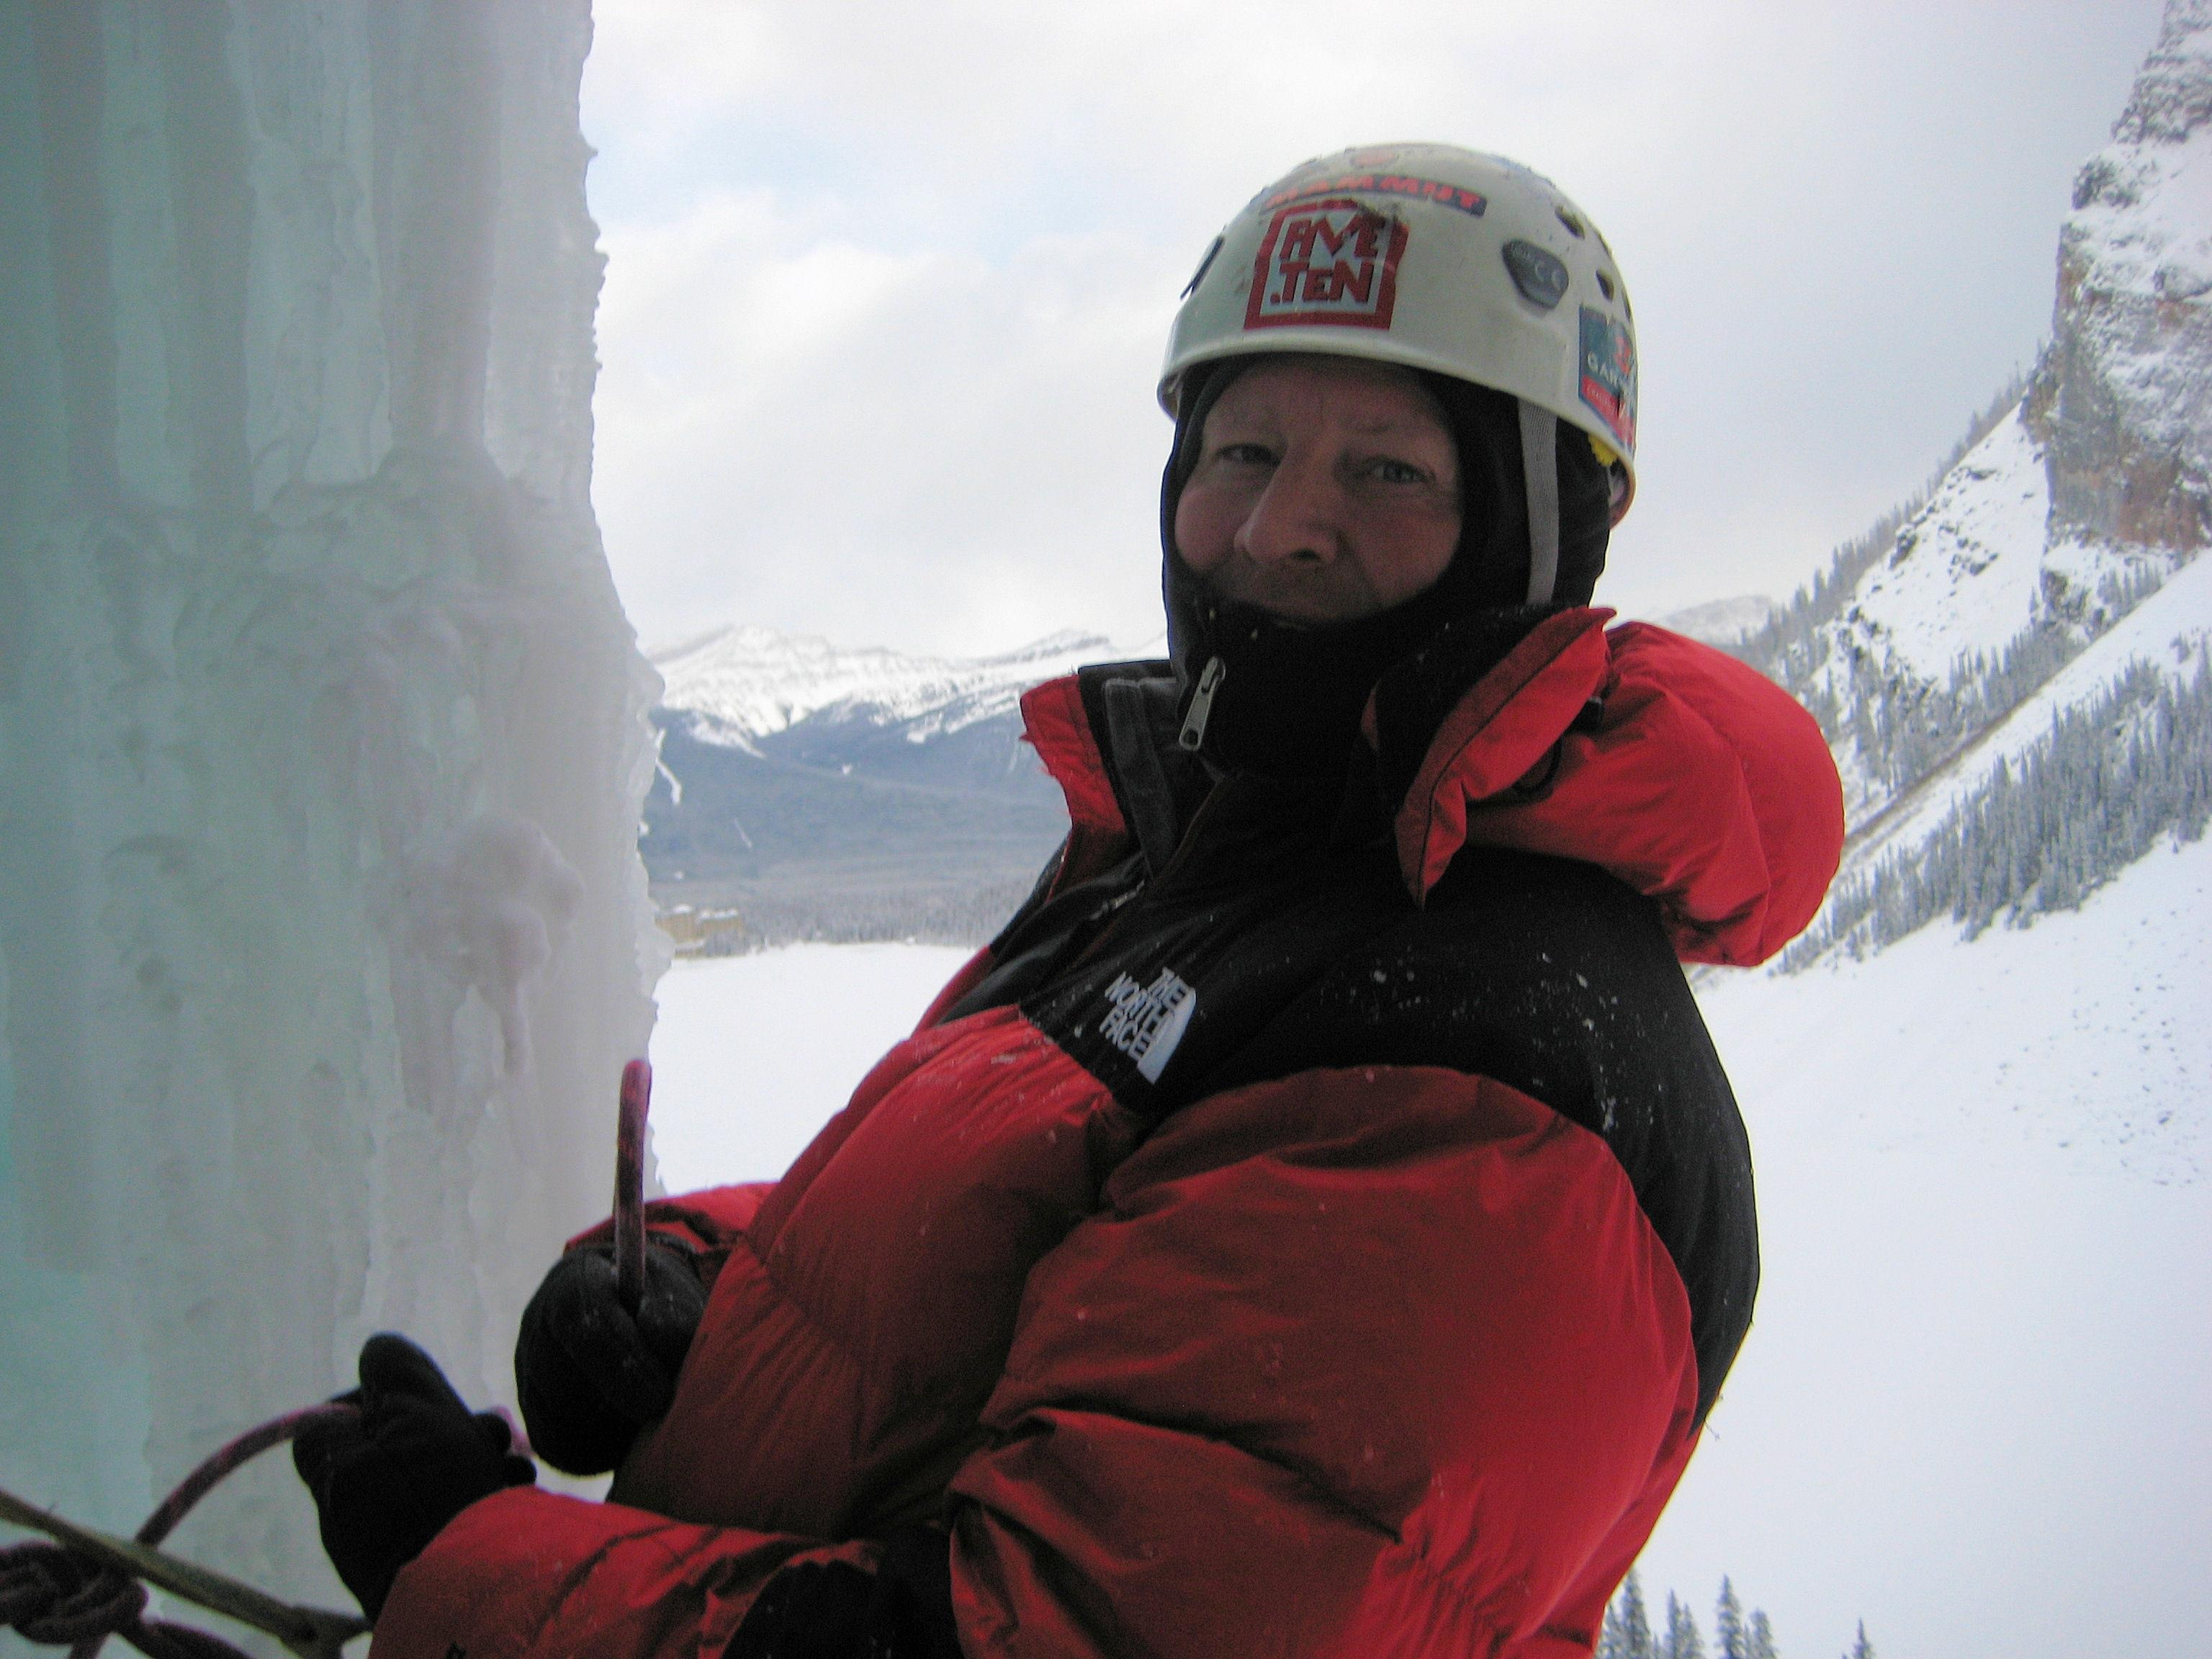helmet: (1148, 129, 1651, 533)
